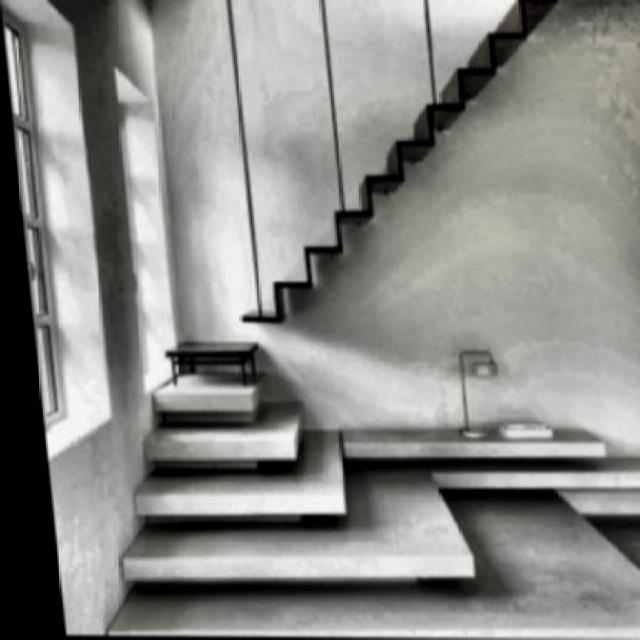stair: (89, 344, 383, 580)
